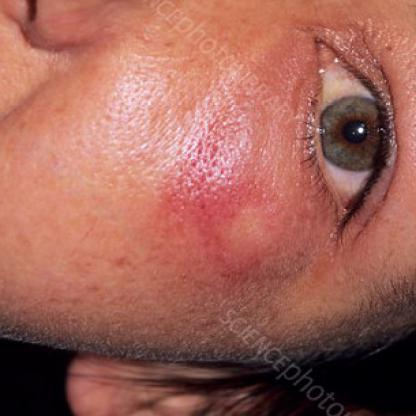Wasp: (166, 108, 312, 280)
